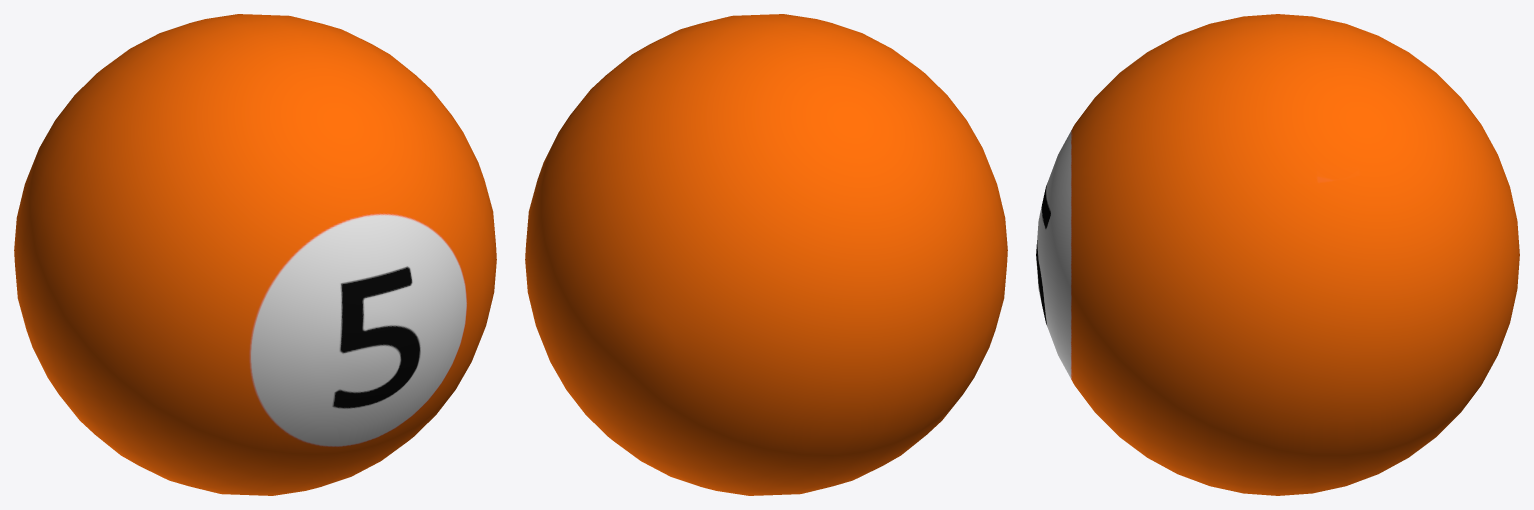
Rendered from ball.glb.
3 views of the same model, side by side, from view 1: azimuth 30°, elevation 25°; view 2: azimuth 150°, elevation 25°; view 3: azimuth 270°, elevation 25° (orthographic).
Visible parts, largest first — view 1: ball_pool_five_stylizedq_lod0; view 2: ball_pool_five_stylizedq_lod0; view 3: ball_pool_five_stylizedq_lod0.
Boxes of the visible parts, x1,y1,x2,y2 form: ball_pool_five_stylizedq_lod0: [14, 14, 496, 495]; ball_pool_five_stylizedq_lod0: [525, 14, 1007, 495]; ball_pool_five_stylizedq_lod0: [1036, 14, 1519, 495].
Size of the model in its own units: 0.0575 by 0.0575 by 0.0575.
Materials: 1 (1 with a texture image).
